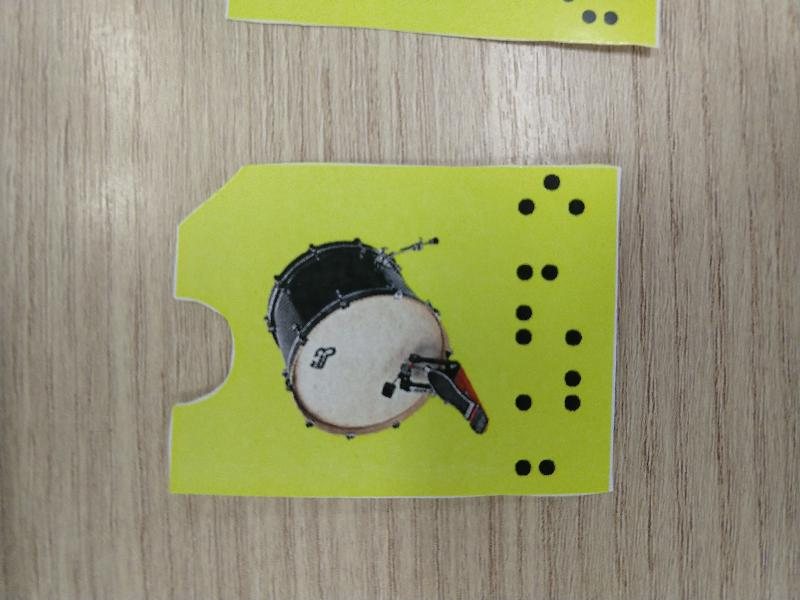bumbo: (165, 153, 621, 502)
